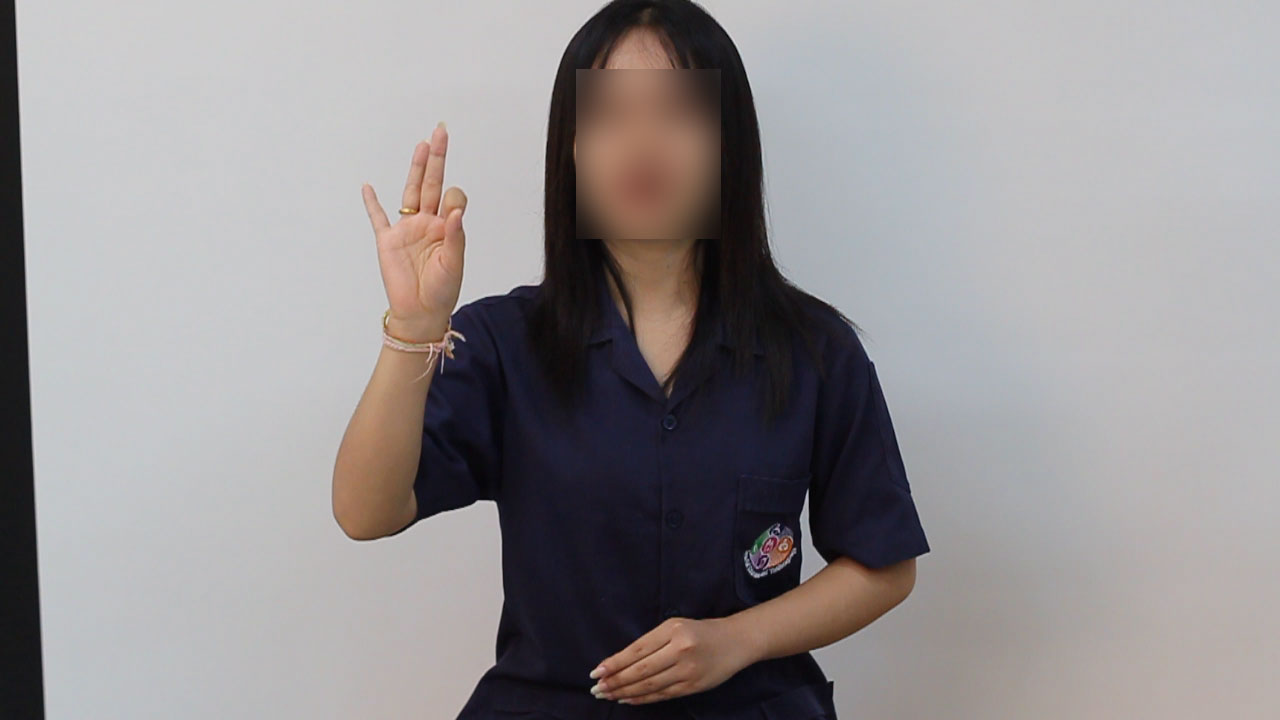for: (352, 112, 476, 344)
